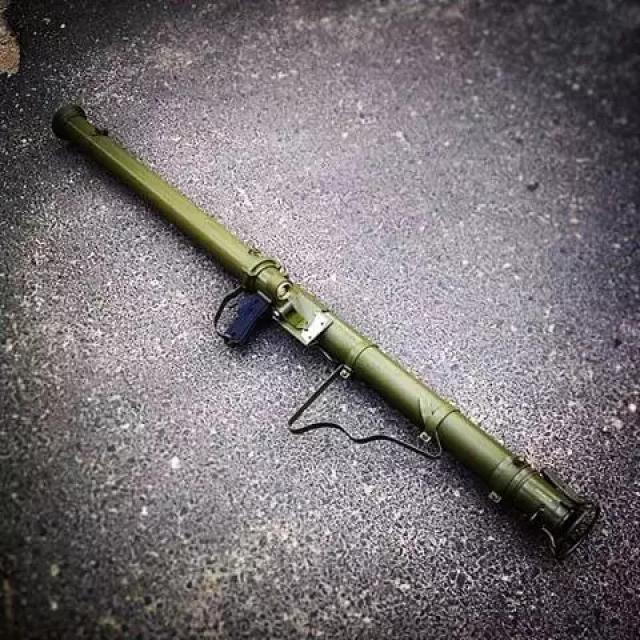bazooka: (32, 88, 622, 575)
